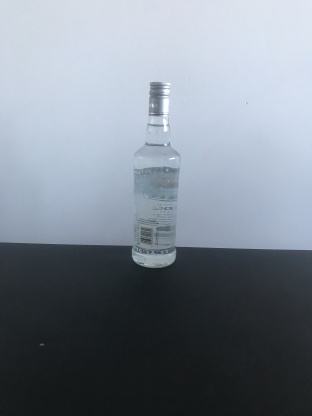nakretka: (147, 79, 172, 118)
